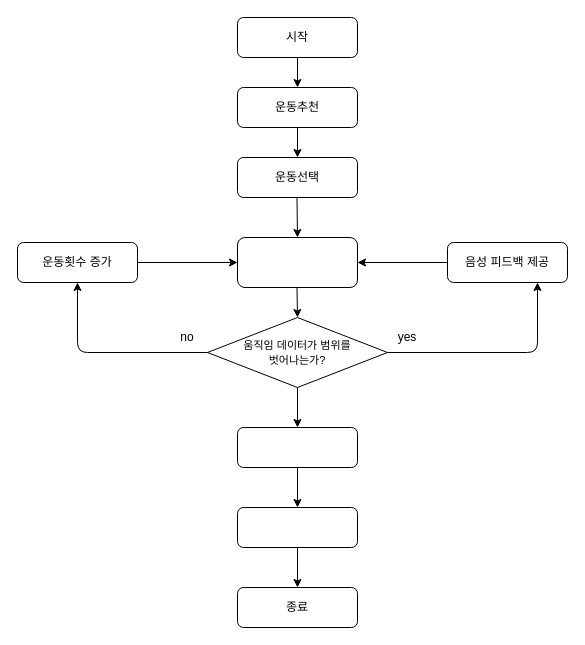
The diagram is 585 pixels wide and 645 high, and some of its shapes have lost their labels. The shapes that lost their labels are listed below. From the top down, each one's centre as x and y in pixels, then its label:
At pixel 297 262: "사용자 동작 촬영 및 사용자 움직임 데이터추출".
At pixel 297 447: "운동데이터 저장".
At pixel 297 527: "운동데이터 업데이트".
